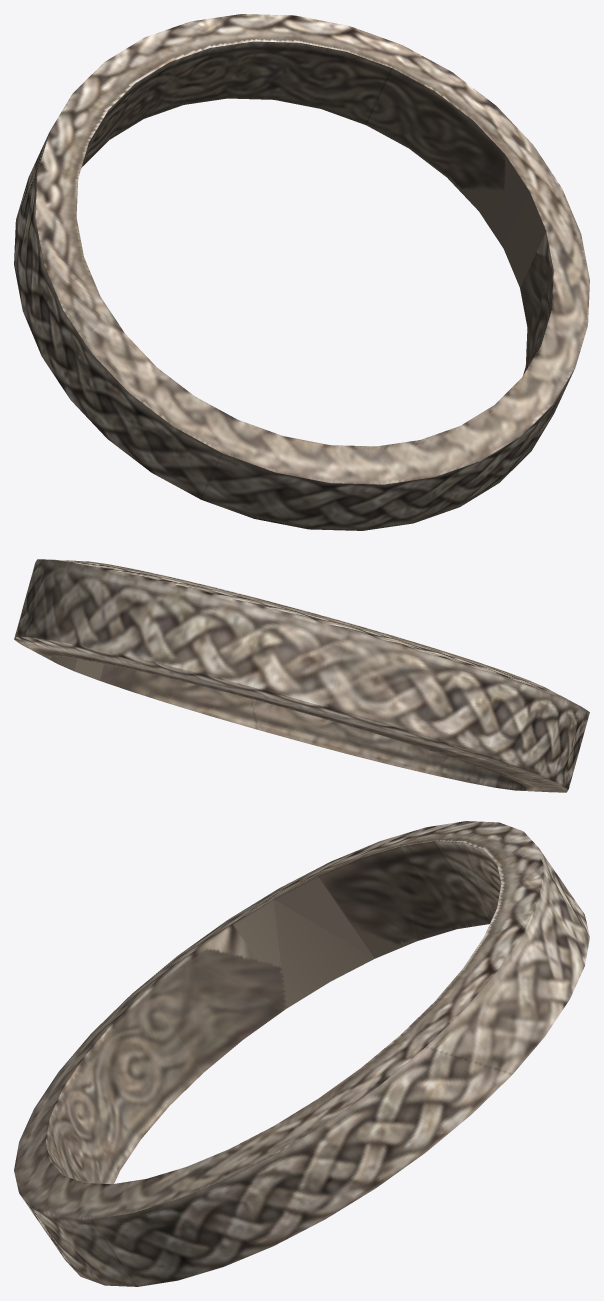
The model's file is item_mm9_10157.glb.
3 renders of one model, top to bottom at view 1: azimuth 30°, elevation 25°; view 2: azimuth 150°, elevation 25°; view 3: azimuth 270°, elevation 25°, orthographic. The views are drawn at different scales.
Visible parts, largest first — view 1: d10157; view 2: d10157; view 3: d10157.
Boxes of the visible parts, x1,y1,x2,y2 form: d10157: (14,14,589,530); d10157: (14,559,589,792); d10157: (14,821,589,1286).
Bounding box in the file's own units: 27 × 17.51 × 24.9.
1 material, 1 textured.
